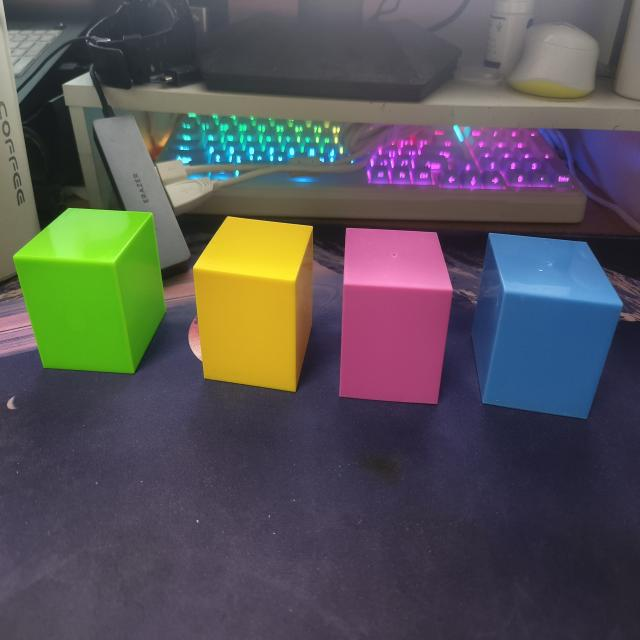blue: (476, 236, 622, 422)
green: (12, 208, 165, 376)
pink: (339, 229, 452, 407)
yellow: (192, 218, 315, 394)
